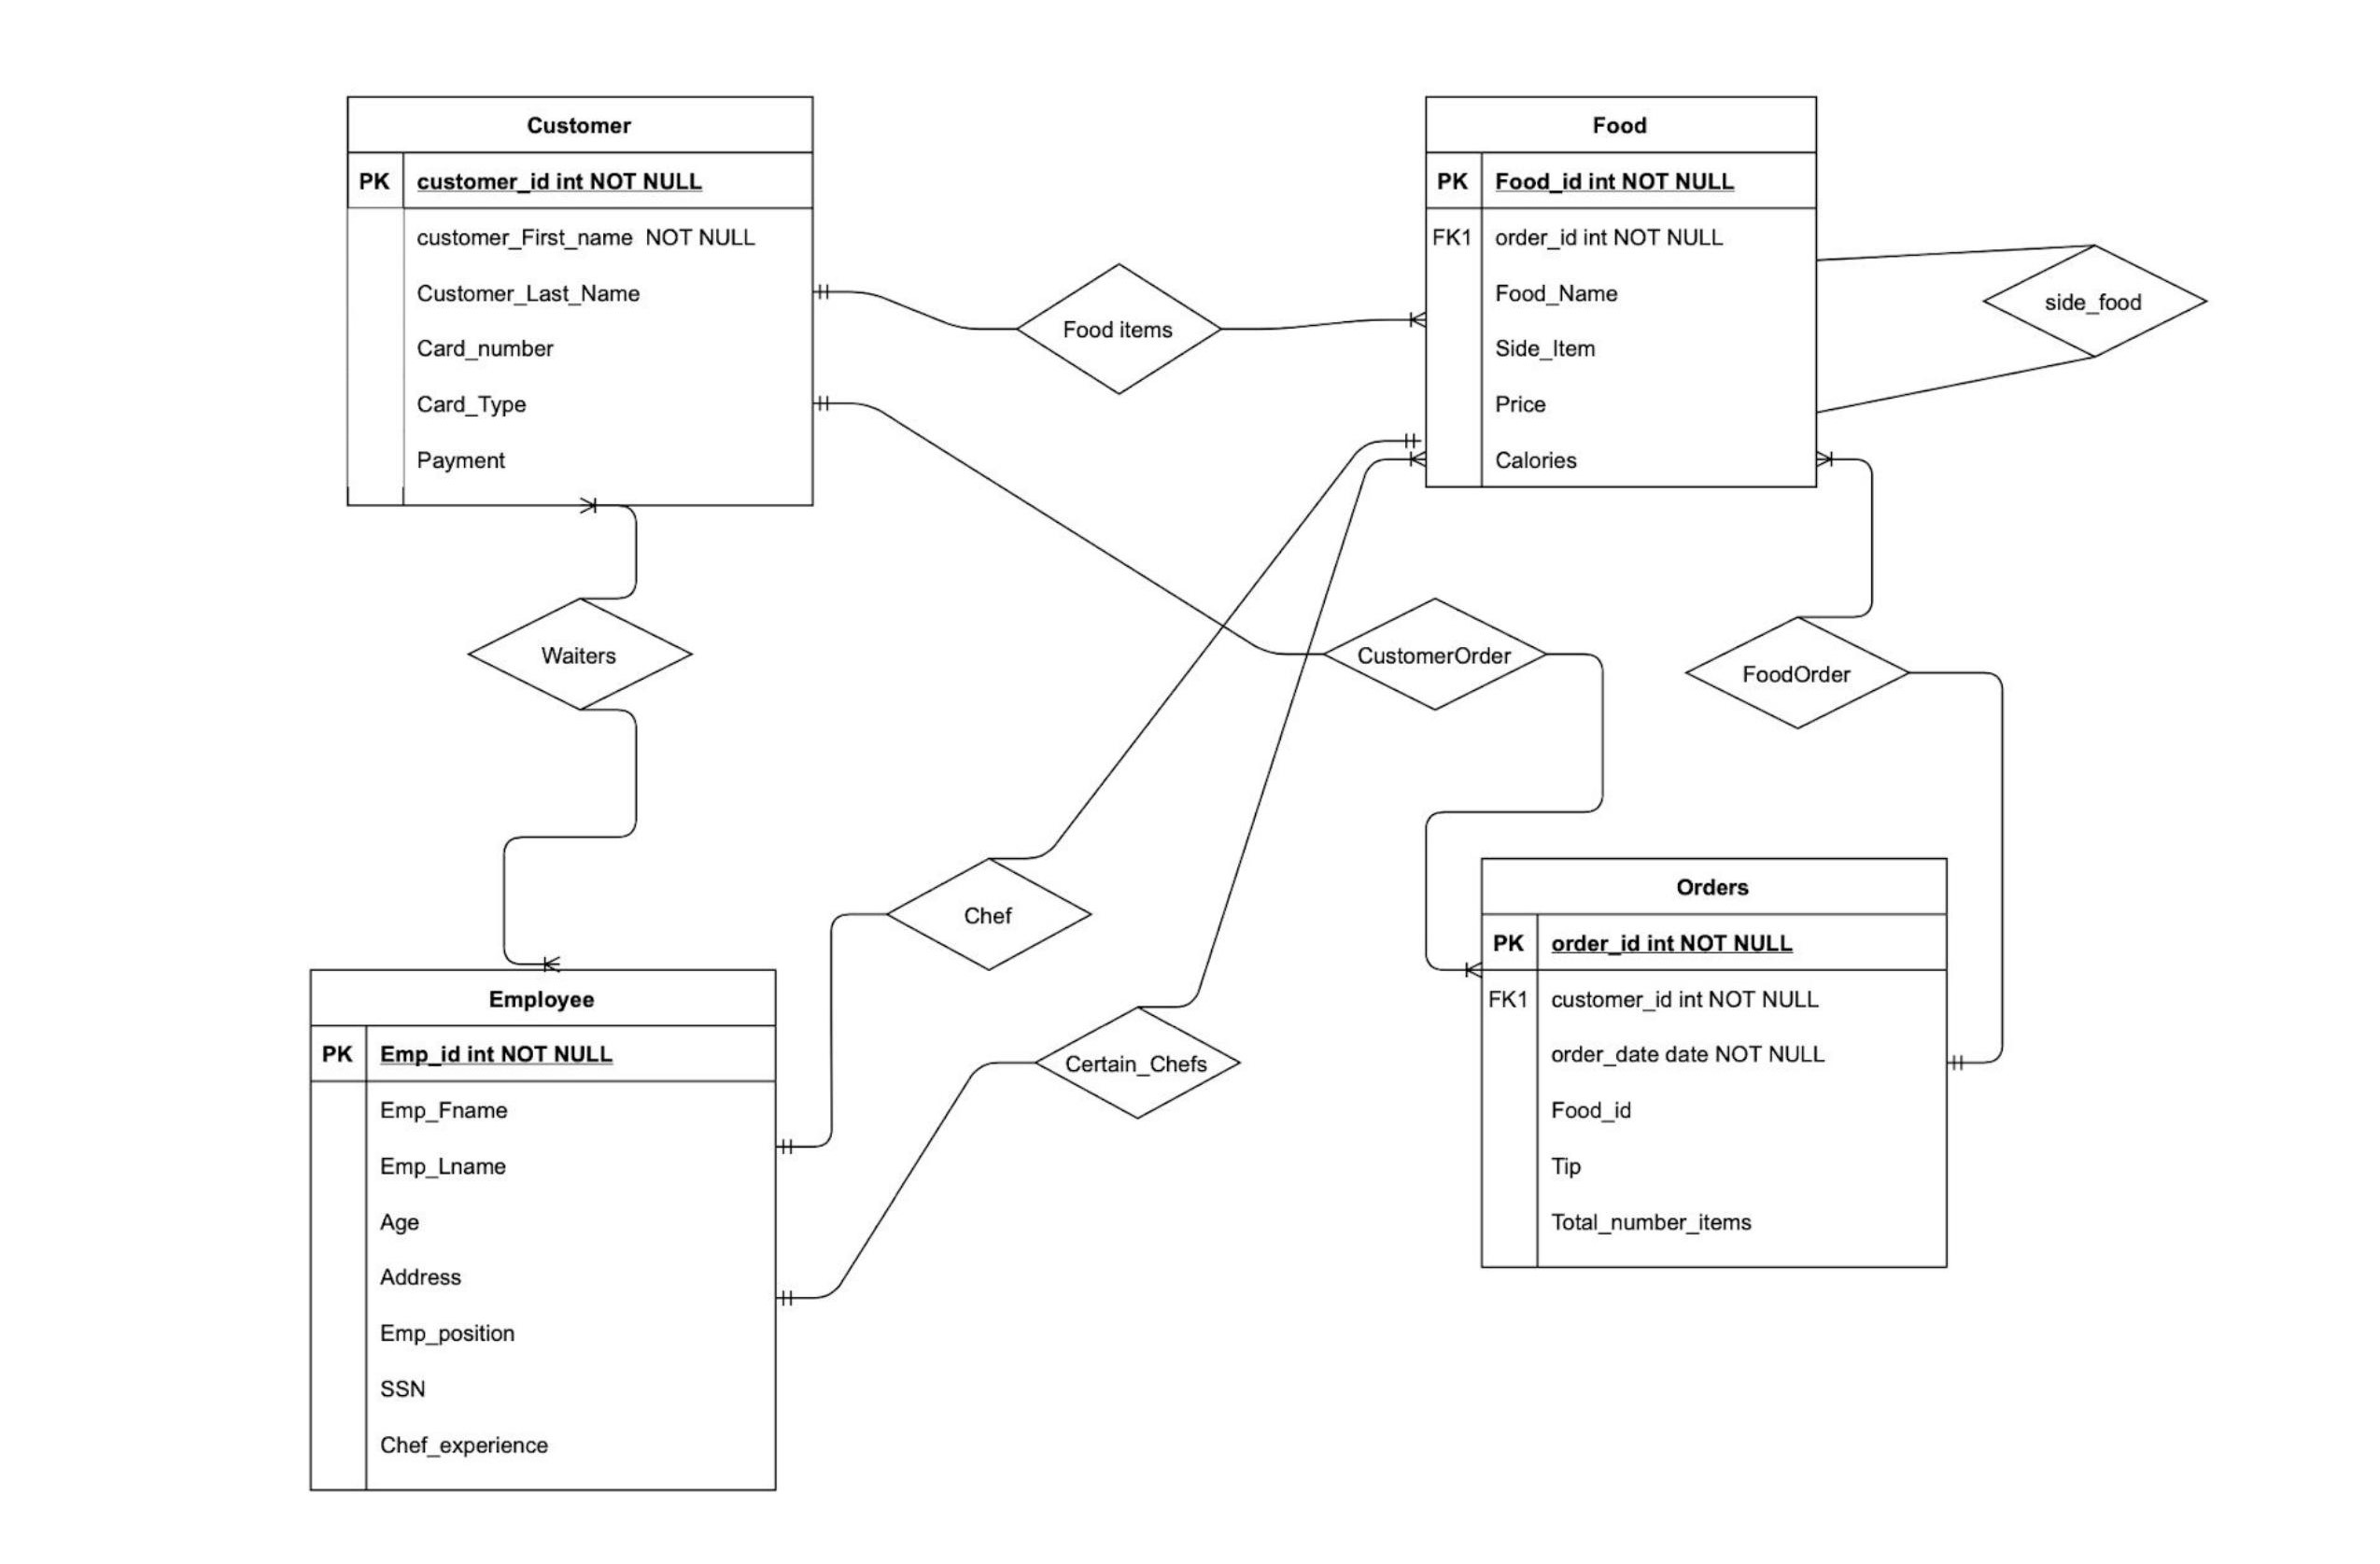Entity: (309, 967, 778, 1494), (344, 93, 817, 506), (1480, 857, 1947, 1269), (1424, 96, 1820, 490)
Relationship: (1016, 262, 1220, 394), (1323, 597, 1546, 710), (1686, 616, 1909, 730), (468, 599, 693, 710), (1984, 244, 2207, 356), (886, 857, 1094, 971), (1036, 1007, 1241, 1115)
